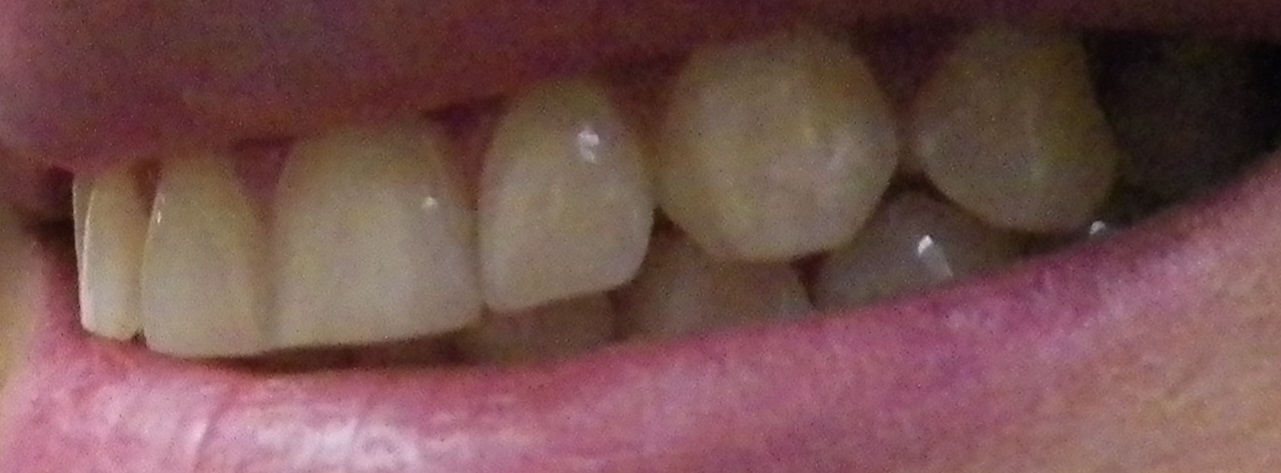boca: (71, 36, 1201, 362)
